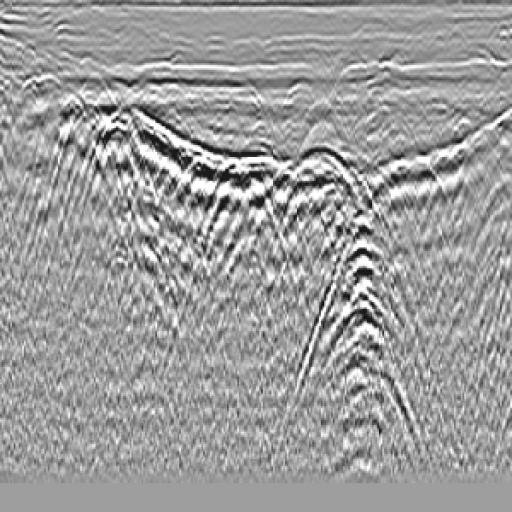metalic: (200, 120, 317, 330)
